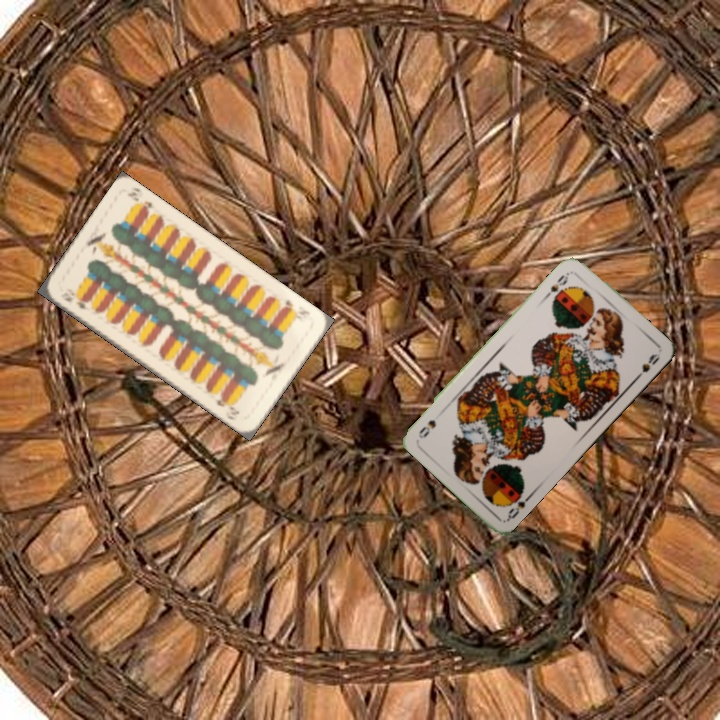E10: (279, 295, 313, 320), (60, 293, 94, 313)
SO: (502, 484, 535, 523), (541, 268, 572, 301)
